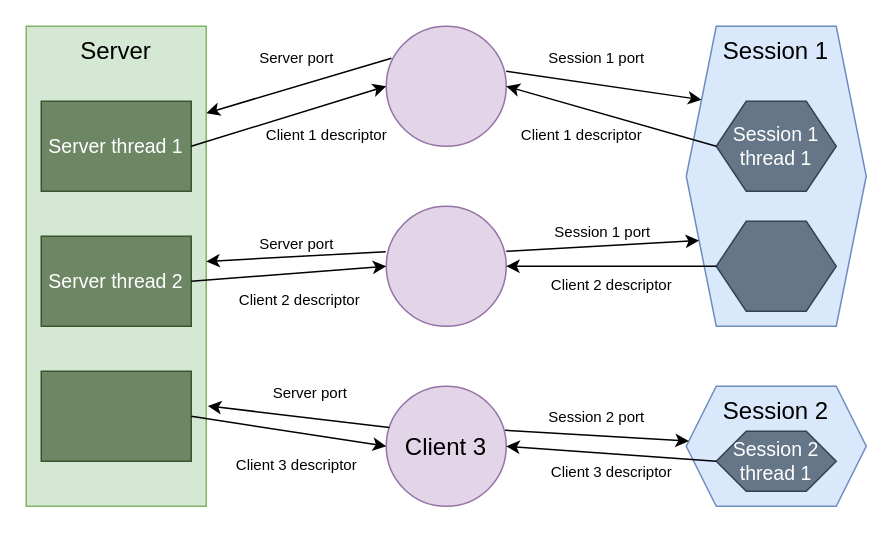
This 893x533 diagram has some shape labels left out. The shapes that lost their labels are listed below. From the top down, each one's centre as x and y in pixels, then its label:
At [445,85]: "Client 1".
At [445,265]: "Client 2".
At [775,265]: "Session 1 thread 2".
At [115,415]: "Server thread 3".
